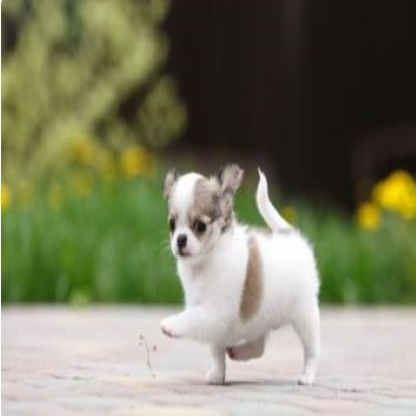chihuahua: (153, 164, 326, 391)
